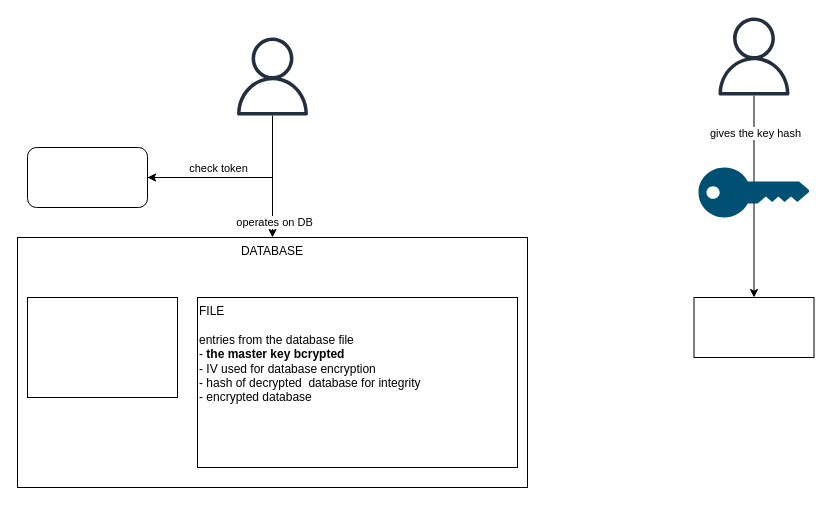
This 832x505 diagram has some shape labels left out. The shapes that lost their labels are listed below. From the top down, each one's centre as x and y in pixels, then its label:
At pixel 87 177: "SESSION".
At pixel 102 347: "DECRYPTED content of database is decrypted secrets are still encrypted".
